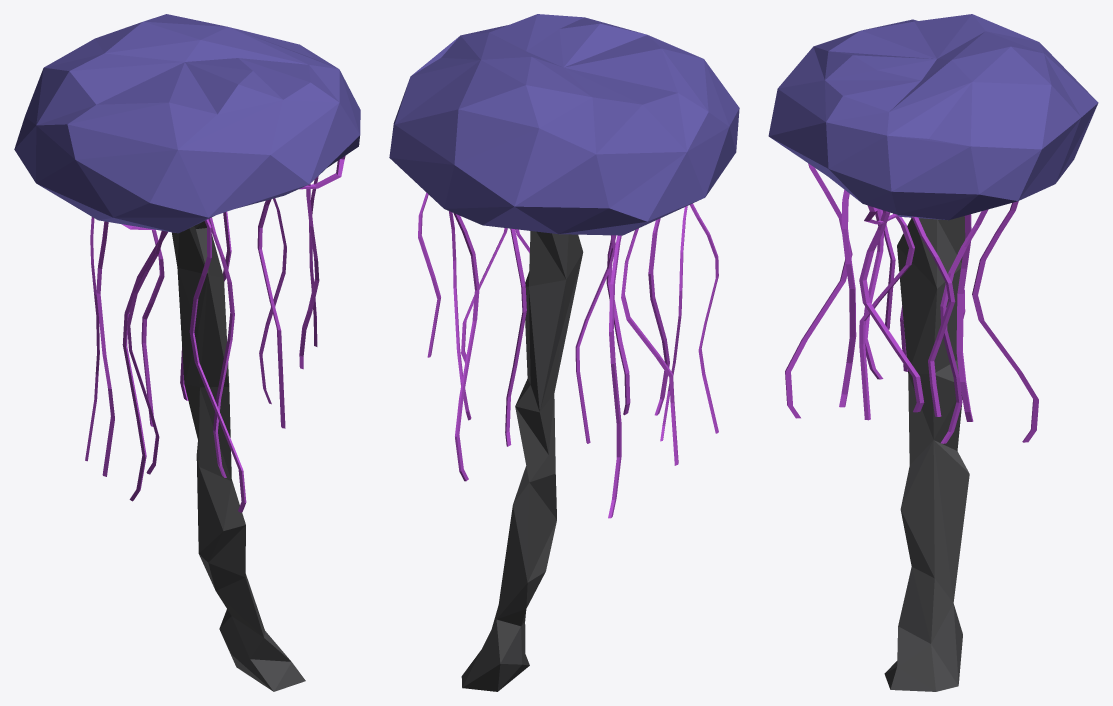
Rendered from VL_Tree02.fbx.
3 renders of one model, left to right at view 1: azimuth 30°, elevation 25°; view 2: azimuth 150°, elevation 25°; view 3: azimuth 270°, elevation 25°, orthographic. The views are drawn at different scales.
Parts seen in each view (by area): view 1: VL_Tree02; view 2: VL_Tree02; view 3: VL_Tree02.
Boxes of the visible parts, x1=… form: VL_Tree02: x1=14, y1=14, x2=360, y2=691; VL_Tree02: x1=389, y1=14, x2=739, y2=691; VL_Tree02: x1=768, y1=14, x2=1098, y2=691.
Bounding box in the file's own units: 125 × 258 × 129.
Materials: 1 (1 with a texture image).
